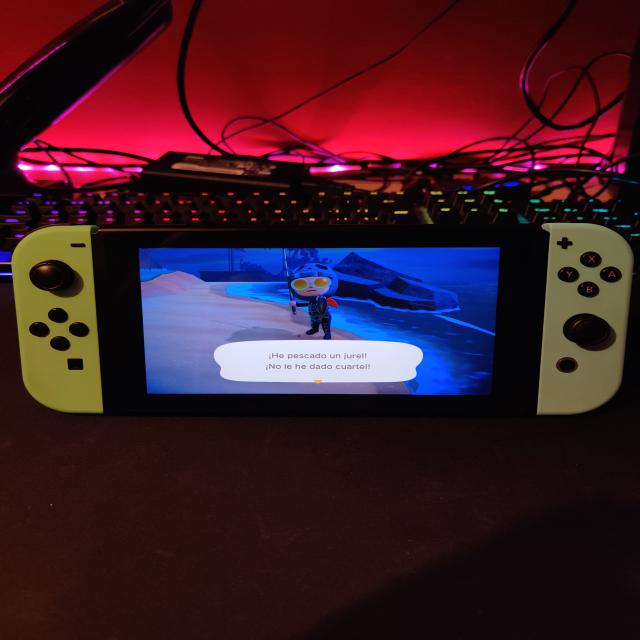text_bubble: (214, 340, 426, 386)
